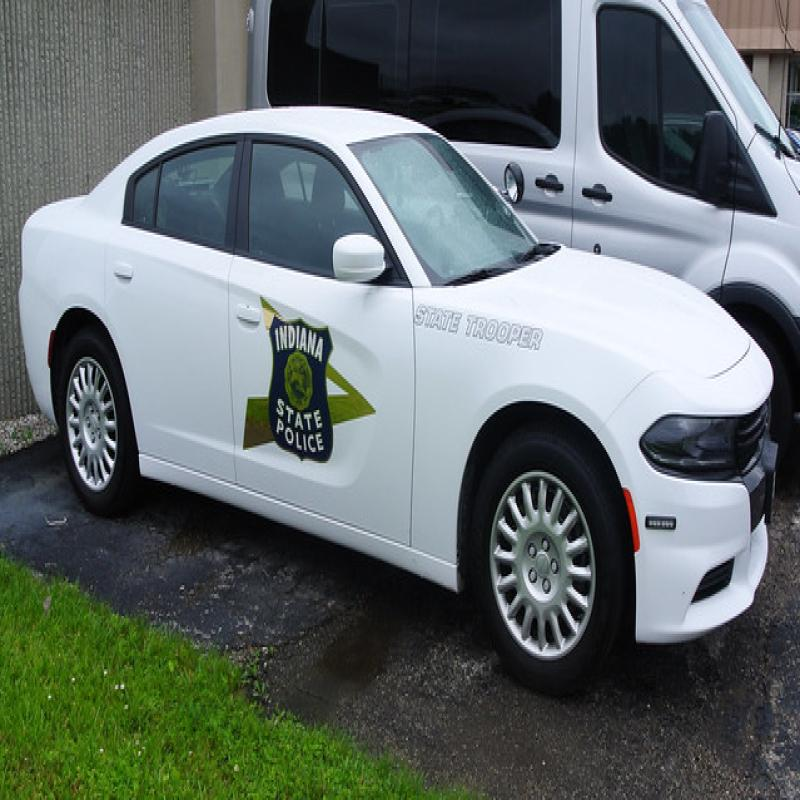car: (25, 45, 796, 732)
